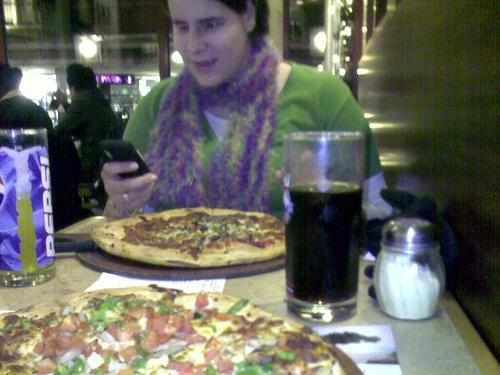tomato: (122, 306, 154, 324), (204, 336, 224, 364), (82, 339, 104, 358), (62, 338, 87, 354), (142, 329, 160, 349), (35, 358, 55, 374), (194, 292, 209, 310), (116, 329, 134, 342), (178, 322, 195, 334), (119, 346, 136, 358), (56, 337, 72, 348), (213, 354, 222, 364), (196, 368, 207, 374), (43, 346, 55, 351)
